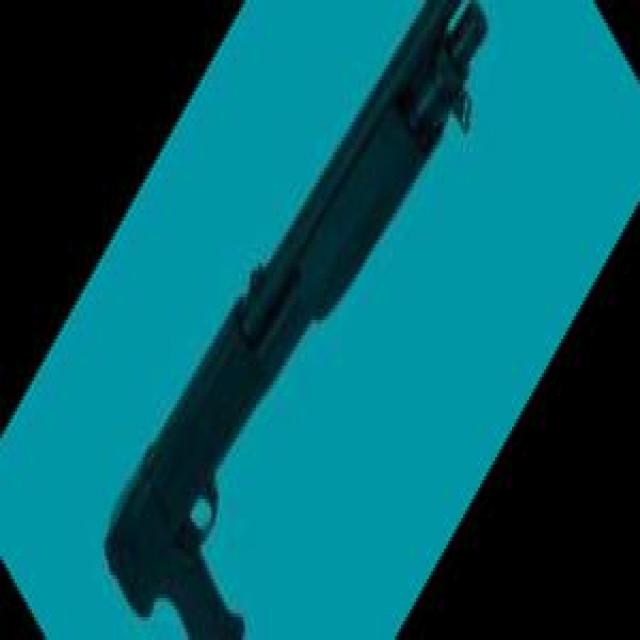heavy-weapon: (103, 1, 487, 640)
